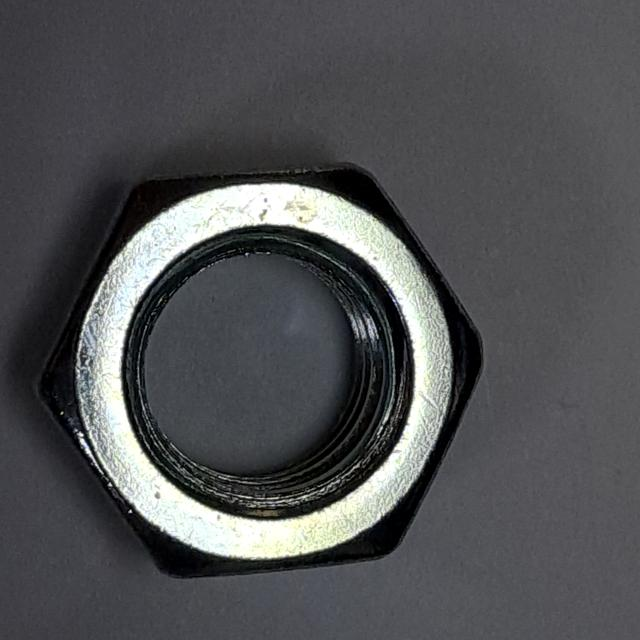Excellent: (17, 149, 497, 592)
